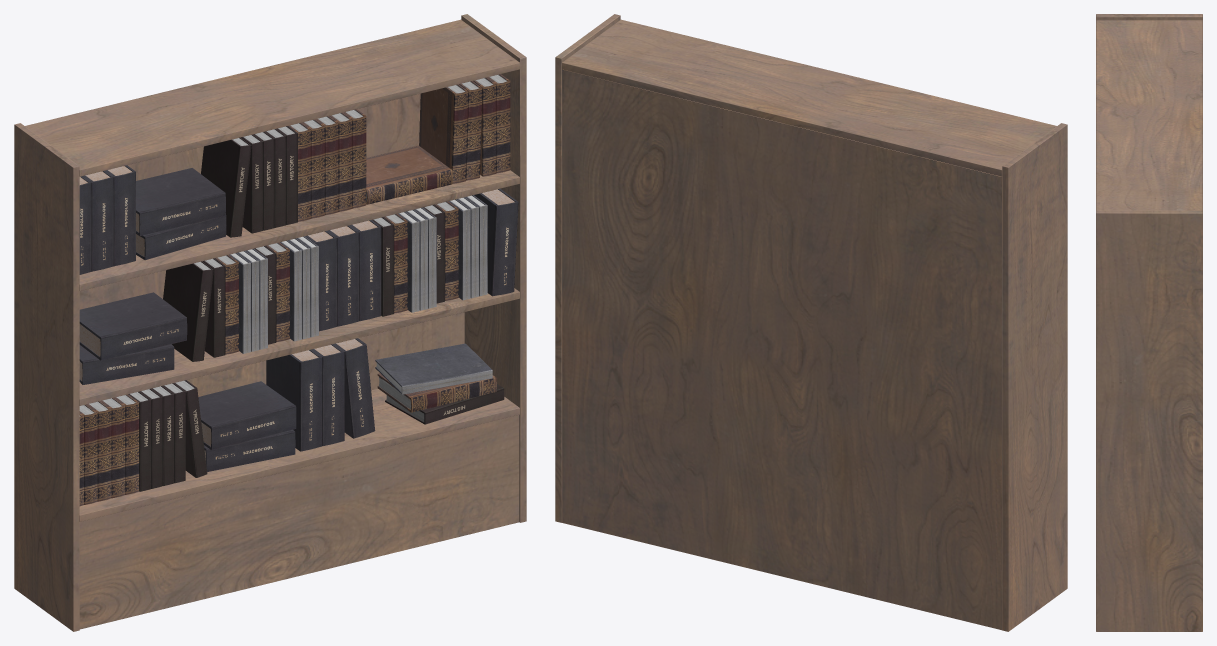
File: book_shelf.glb
3 renders of one model, left to right at view 1: azimuth 30°, elevation 25°; view 2: azimuth 150°, elevation 25°; view 3: azimuth 270°, elevation 25°, orthographic. The views are drawn at different scales.
Parts seen in each view (by area): view 1: book_shelf.Shape; view 2: book_shelf.Shape; view 3: book_shelf.Shape.
Part boxes in pixels (x1=…): book_shelf.Shape: x1=14, y1=14, x2=526, y2=631; book_shelf.Shape: x1=555, y1=14, x2=1067, y2=631; book_shelf.Shape: x1=1096, y1=14, x2=1202, y2=631.
Bounding box in the file's own units: 1.01 × 0.9838 × 0.2272.
2 materials, 2 textured.
